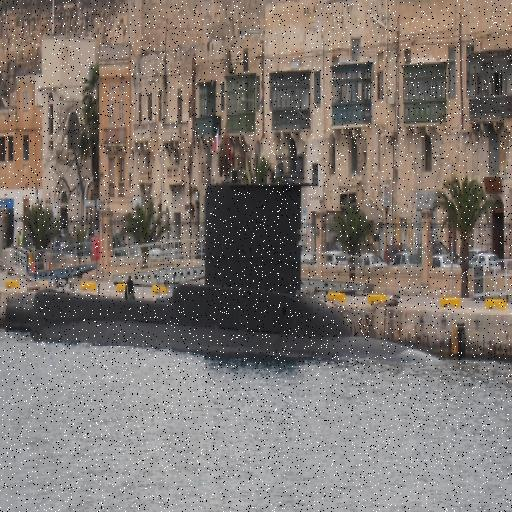submarine: (29, 176, 450, 369)
